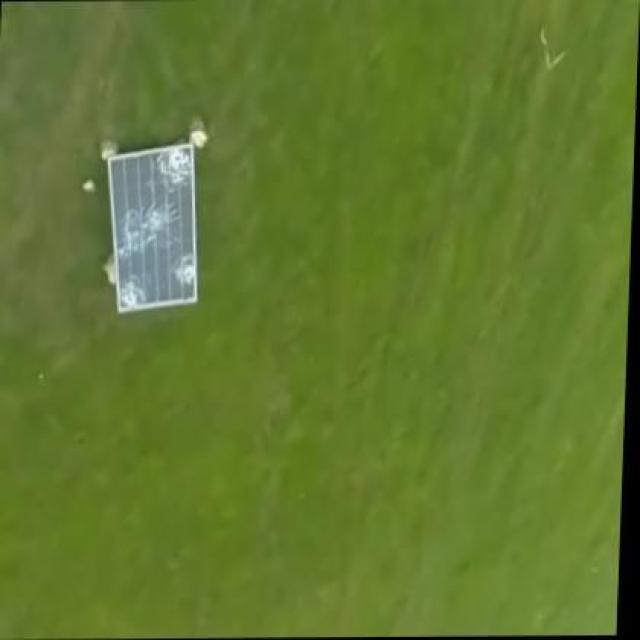cracked: (108, 140, 204, 316)
